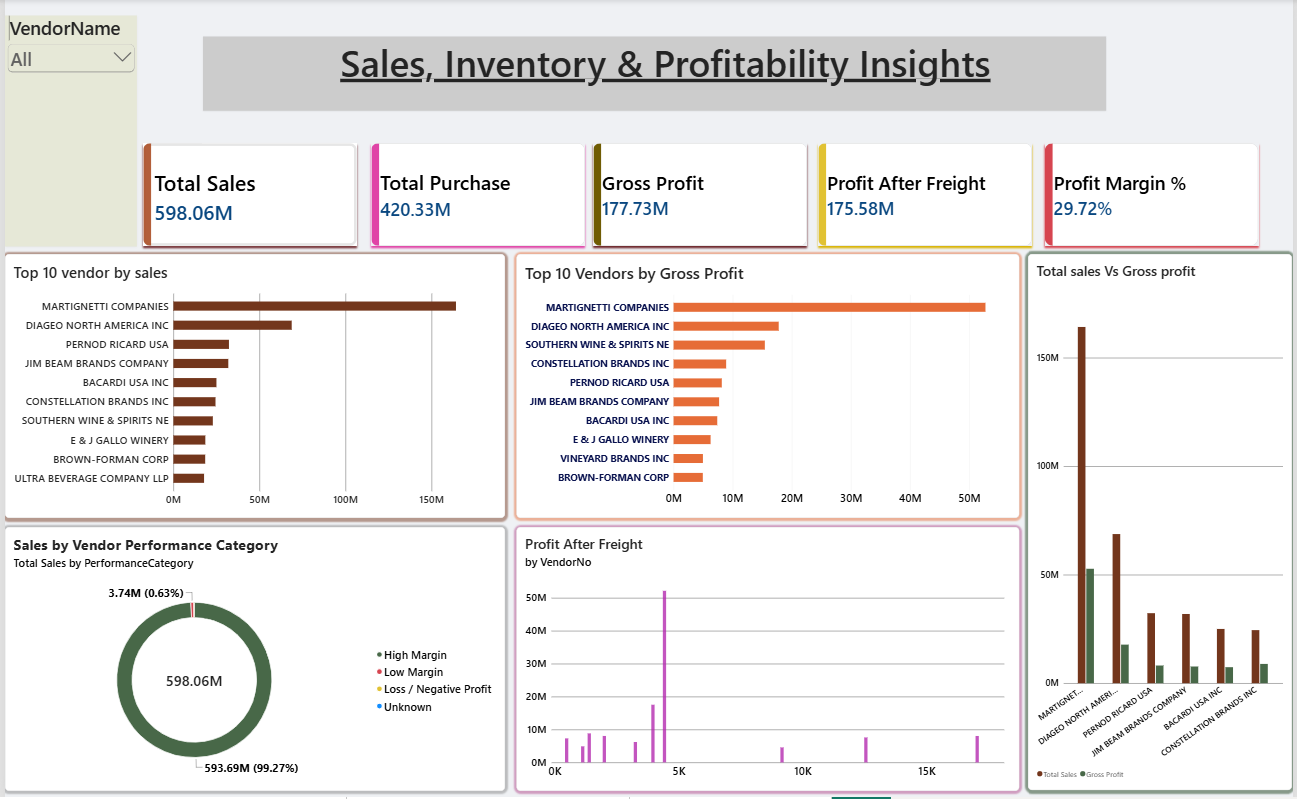

Layout of this report page (visuals, bound fields, positions):
{"tool":"powerbi","page":{"name":"sales,inventory&profitability insights","canvas":[2500,1550],"ordinal":0},"visuals":[{"type":"cardVisual","fields":{"Data":["final_vendor_analysis.Total Sales"]},"box":[268,278,415,200],"z":0},{"type":"cardVisual","fields":{"Data":["final_vendor_analysis.Total Purchase"]},"box":[709,278,415,200],"z":1000},{"type":"cardVisual","fields":{"Data":["final_vendor_analysis.Gross Profit"]},"box":[1142,278,415,200],"z":2000},{"type":"cardVisual","fields":{"Data":["final_vendor_analysis.Profit After Freight"]},"box":[1577,278,415,200],"z":3000},{"type":"cardVisual","fields":{"Data":["final_vendor_analysis.Profit Margin %"]},"box":[2016,278,416,200],"z":4000},{"type":"clusteredBarChart","title":"Top 10 vendor by sales","fields":{"Category":["final_vendor_analysis.VendorName"],"Y":["final_vendor_analysis.Total Sales"]},"box":[0,494,970,512],"z":5000},{"type":"clusteredBarChart","title":"Top 10 Vendors by Gross Profit","fields":{"Category":["final_vendor_analysis.VendorName"],"Y":["final_vendor_analysis.Gross Profit"]},"box":[992,494,975,512],"z":6000},{"type":"donutChart","title":"Sales by Vendor Performance Category","fields":{"Category":["final_vendor_analysis.PerformanceCategory"],"Y":["final_vendor_analysis.Total Sales"]},"box":[0,1024,970,512],"z":7000},{"type":"clusteredColumnChart","title":"Total sales  Vs Gross profit","fields":{"Category":["final_vendor_analysis.VendorName"],"Y":["final_vendor_analysis.Total Sales","final_vendor_analysis.Gross Profit"]},"box":[1984,494,512,1040],"z":8000},{"type":"columnChart","fields":{"Category":["final_vendor_analysis.VendorNo"],"Y":["final_vendor_analysis.Profit After Freight"]},"box":[992,1024,975,512],"z":9000},{"type":"slicer","fields":{"Values":["final_vendor_analysis.VendorName"]},"box":[0,32,256,448],"z":10000},{"type":"textbox","box":[384,72,1752,144],"z":11000}]}

Visuals, with their boxes in screenshot pixels (x1, y1, x2, y2), scaled from the page's 2500x1550 canvas onto the 1297x799 screenshot:
cardVisual - final_vendor_analysis.Total Sales: select_region(139, 143, 354, 246)
cardVisual - final_vendor_analysis.Total Purchase: select_region(368, 143, 583, 246)
cardVisual - final_vendor_analysis.Gross Profit: select_region(592, 143, 808, 246)
cardVisual - final_vendor_analysis.Profit After Freight: select_region(818, 143, 1033, 246)
cardVisual - final_vendor_analysis.Profit Margin %: select_region(1046, 143, 1262, 246)
"Top 10 vendor by sales" clusteredBarChart: select_region(0, 255, 503, 519)
"Top 10 Vendors by Gross Profit" clusteredBarChart: select_region(515, 255, 1020, 519)
"Sales by Vendor Performance Category" donutChart: select_region(0, 528, 503, 792)
"Total sales  Vs Gross profit" clusteredColumnChart: select_region(1029, 255, 1295, 791)
columnChart - final_vendor_analysis.VendorNo x final_vendor_analysis.Profit After Freight: select_region(515, 528, 1020, 792)
slicer - final_vendor_analysis.VendorName: select_region(0, 16, 133, 247)
textbox: select_region(199, 37, 1108, 111)
